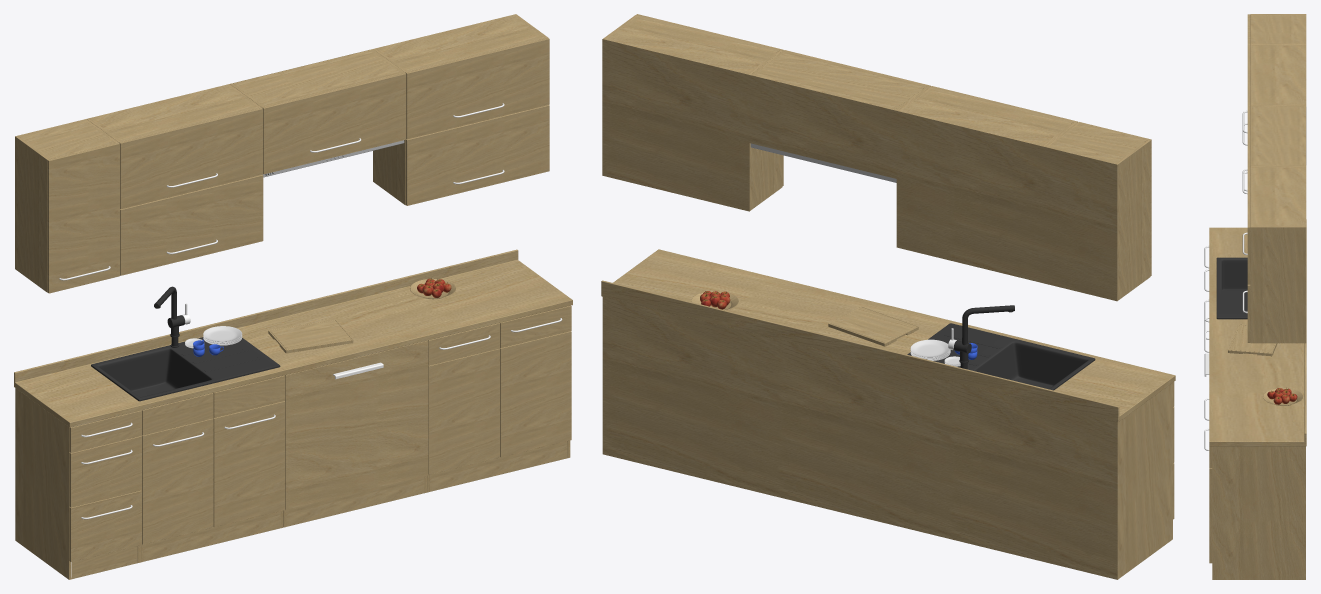
Rendered from obj_kitchen_set_5b0859.glb.
3 views of the same model, side by side, from view 1: azimuth 30°, elevation 25°; view 2: azimuth 150°, elevation 25°; view 3: azimuth 270°, elevation 25° (orthographic). The views are drawn at different scales.
Visible parts, largest first — view 1: obj_kitchen_set_5b0859; view 2: obj_kitchen_set_5b0859; view 3: obj_kitchen_set_5b0859.
Part boxes in pixels (x1,y1,x2,y2): obj_kitchen_set_5b0859: [14, 14, 572, 579]; obj_kitchen_set_5b0859: [601, 14, 1175, 579]; obj_kitchen_set_5b0859: [1204, 14, 1306, 579].
Bounding box in the file's own units: 0.8 × 0.6142 × 0.1613.
Materials: 18 (7 with a texture image).
